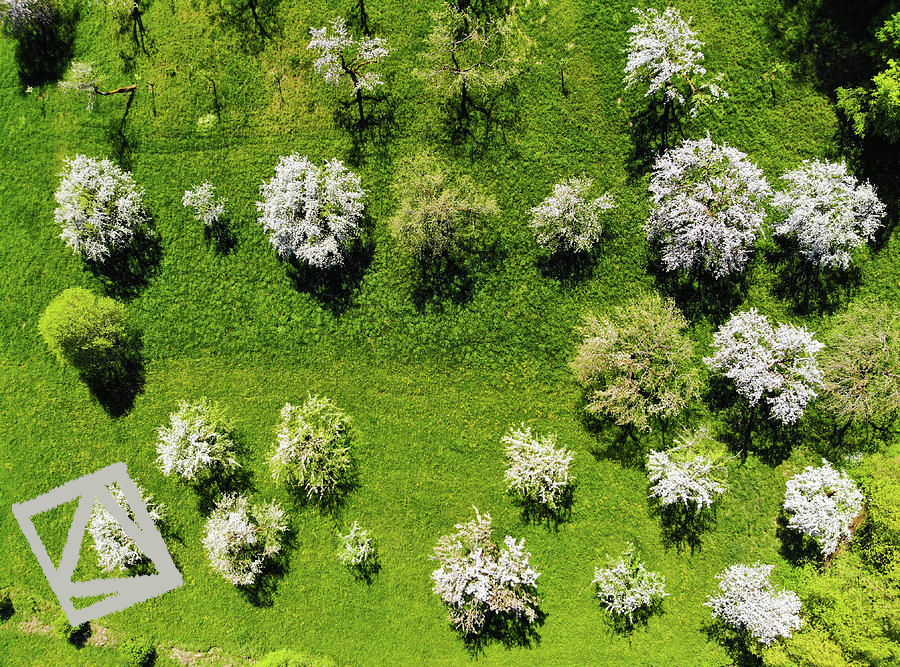marker: (8, 456, 189, 634)
